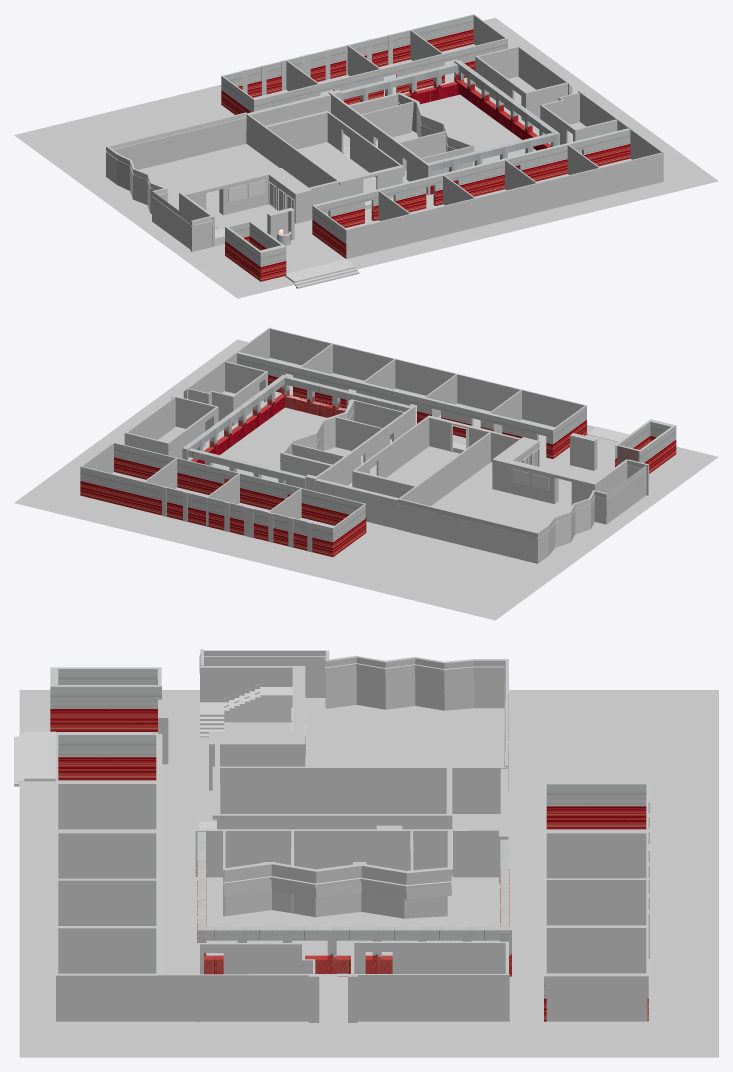
File: TT_Gfloor.fbx
3 renders of one model, top to bottom at view 1: azimuth 30°, elevation 25°; view 2: azimuth 150°, elevation 25°; view 3: azimuth 270°, elevation 25°, orthographic. The views are drawn at different scales.
Visible parts, largest first — view 1: Plane, Cube.048, Cube.057, Cube.022, Cube.008, Cube.030, Cube.013, Cube.036, Cube.002, Cube.011, Cube.016, Cube (+20 smaller); view 2: Plane, Cube.022, Cube.030, Cube.048, Cube.008, Cube.057, Cube.036, Cube.013, Cube.002, Cube.007, Cube.016, Cube.011 (+19 smaller); view 3: Plane, Cube.008, Cube.022, Cube.014, Cube.013, Cube.012, Cube.009, Cube.011, Cube.021, Cube.002, Cube.057, Cube.030 (+20 smaller).
Part boxes in pixels (<box>): Plane: <box>14,17,718,298</box>; Cube.048: <box>346,152,663,258</box>; Cube.057: <box>312,128,630,258</box>; Cube.022: <box>106,112,247,251</box>; Cube.008: <box>246,111,403,198</box>; Cube.030: <box>221,14,473,114</box>; Cube.013: <box>328,90,472,175</box>; Cube.036: <box>254,38,507,111</box>; Cube.002: <box>454,60,559,150</box>; Cube.011: <box>225,220,286,281</box>; Cube.016: <box>475,46,569,121</box>; Cube: <box>265,167,340,223</box>; Plane: <box>14,339,718,620</box>; Cube.022: <box>398,459,649,563</box>; Cube.030: <box>80,466,365,556</box>; Cube.048: <box>270,328,586,427</box>; Cube.008: <box>352,415,493,509</box>; Cube.057: <box>237,352,586,458</box>; Cube.036: <box>113,442,366,532</box>; Cube.013: <box>280,400,404,491</box>; Cube.002: <box>182,374,287,464</box>; Cube.007: <box>508,459,627,505</box>; Cube.016: <box>125,396,218,467</box>; Cube.011: <box>615,419,676,473</box>; Plane: <box>19,690,718,1057</box>; Cube.008: <box>212,766,507,861</box>; Cube.022: <box>199,649,508,790</box>; Cube.014: <box>195,829,447,877</box>; Cube.013: <box>223,829,508,918</box>; Cube.012: <box>158,973,347,1022</box>; Cube.009: <box>348,974,509,1022</box>; Cube.011: <box>50,667,161,731</box>; Cube.021: <box>223,862,451,899</box>; Cube.002: <box>197,926,511,976</box>; Cube.057: <box>56,734,162,974</box>; Cube.030: <box>546,783,648,1021</box>.
Size of the model in its own units: 5054 by 410 by 4096.
9 materials, 1 textured.
